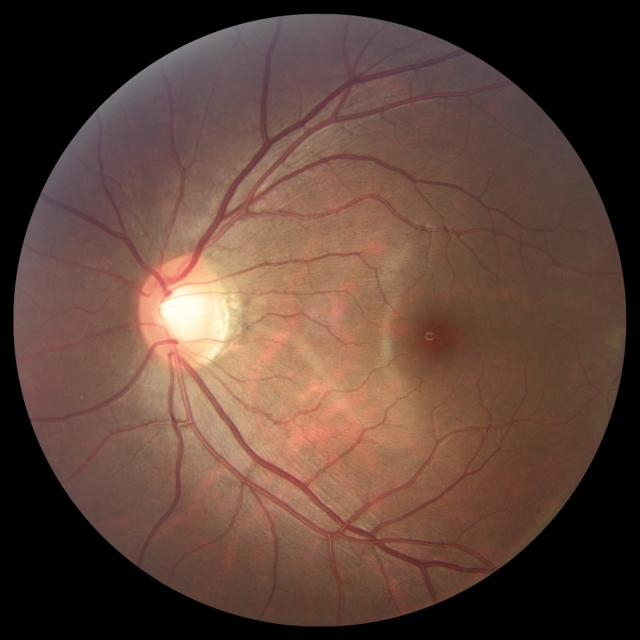OC: (158, 284, 212, 342)
OD: (139, 254, 231, 368)
